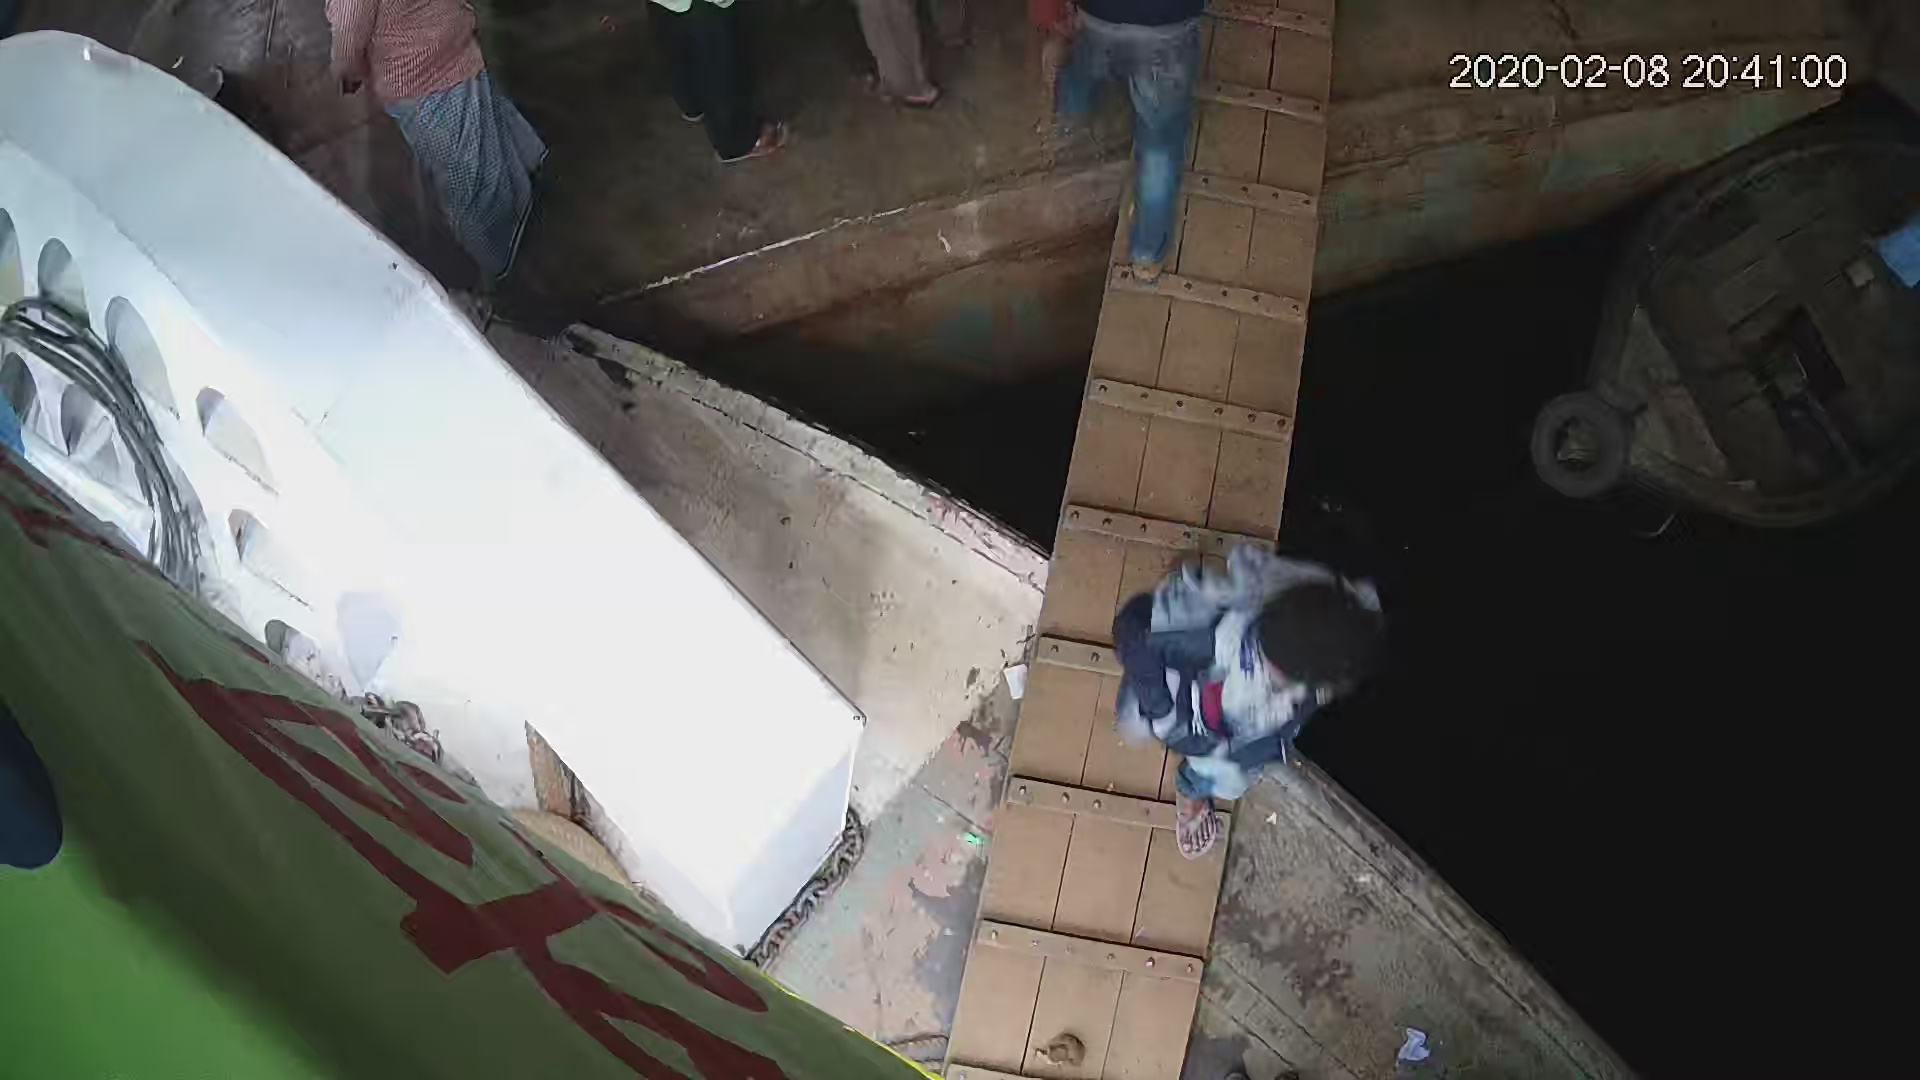person: (1102, 530, 1396, 857), (322, 1, 542, 297), (1034, 1, 1217, 290)
